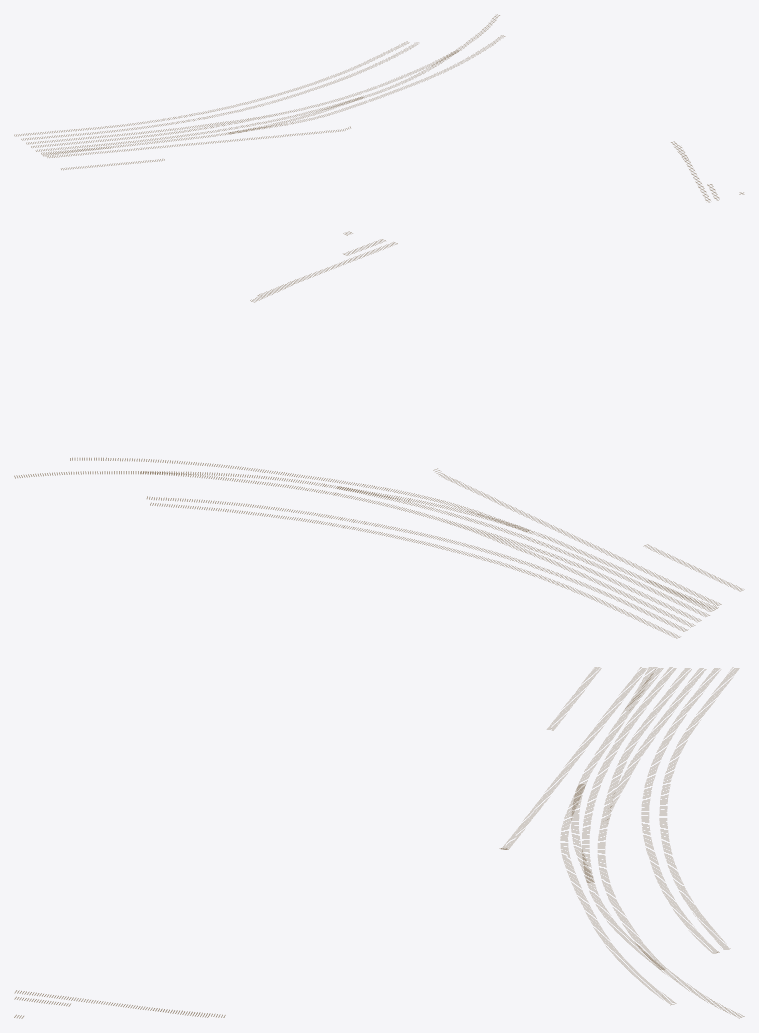
File: c_1629_17831_rail_sleeper.glb
3 renders of one model, top to bottom at view 1: azimuth 30°, elevation 25°; view 2: azimuth 150°, elevation 25°; view 3: azimuth 270°, elevation 25°, orthographic. The views are drawn at different scales.
Visible parts, largest first — view 1: geometry_0; view 2: geometry_0; view 3: geometry_0.
Boxes of the visible parts, x1,y1,x2,y2 form: geometry_0: (14,14,744,202); geometry_0: (14,231,744,638); geometry_0: (14,667,744,1018).
Bounding box in the file's own units: 258 × 1.67 × 225.
